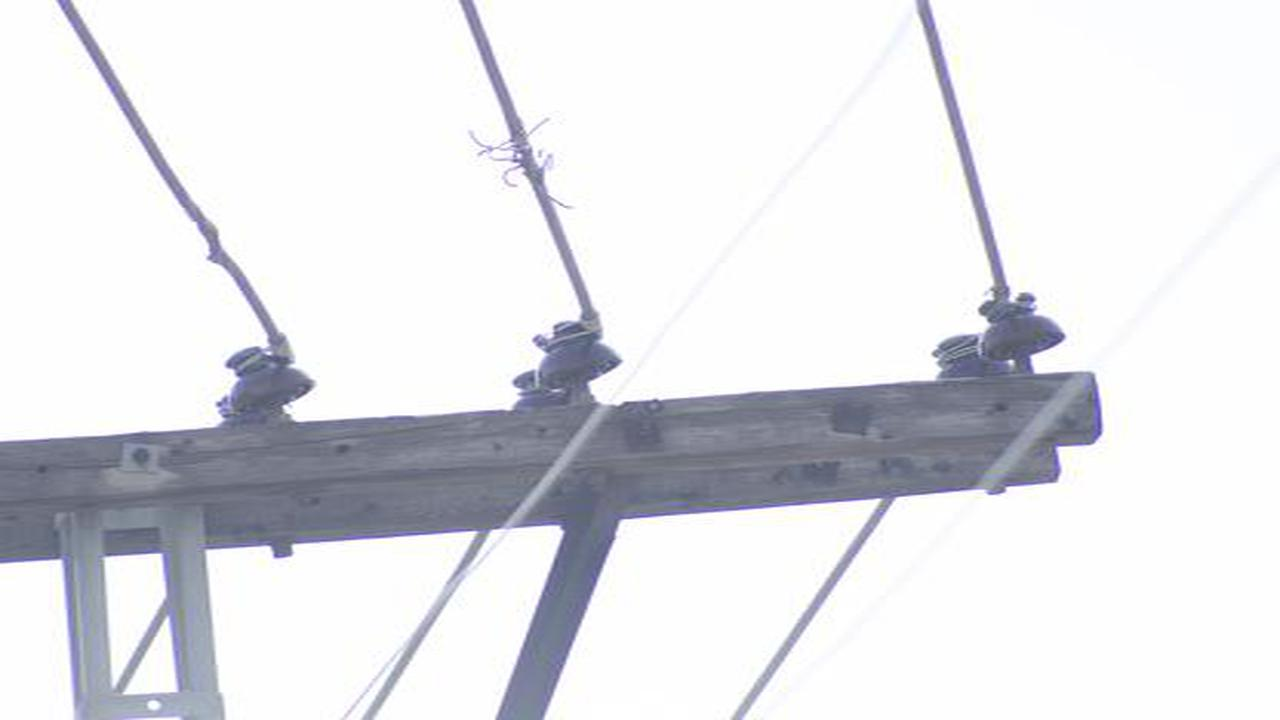insulator_pin: (531, 314, 629, 392), (222, 335, 319, 410), (976, 293, 1068, 363)
